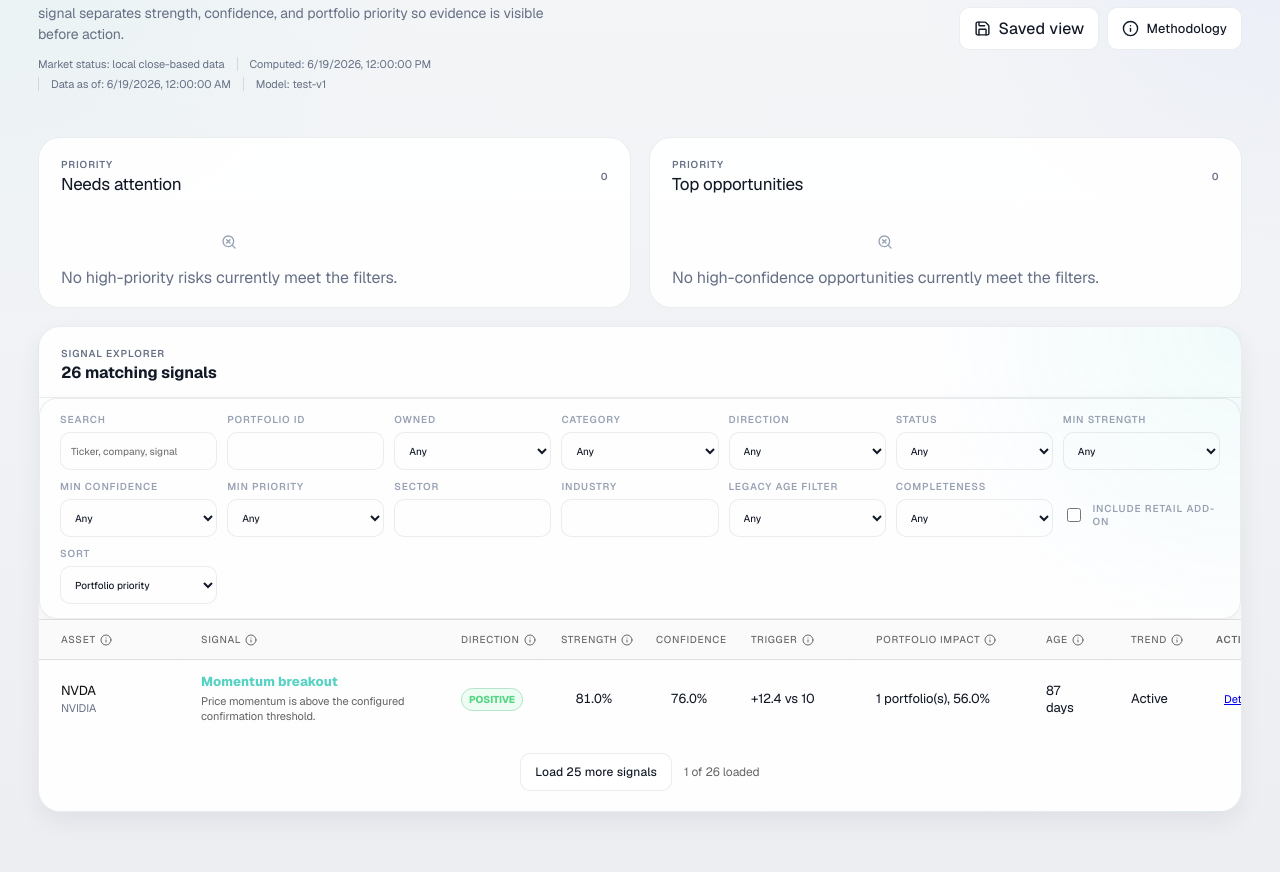
Test: Signals routes › loads the next bounded page only when requested
(page scrolled)
Step 1. Click the button "Load 25 more signals" → click(596, 772), box [520, 753, 672, 791]
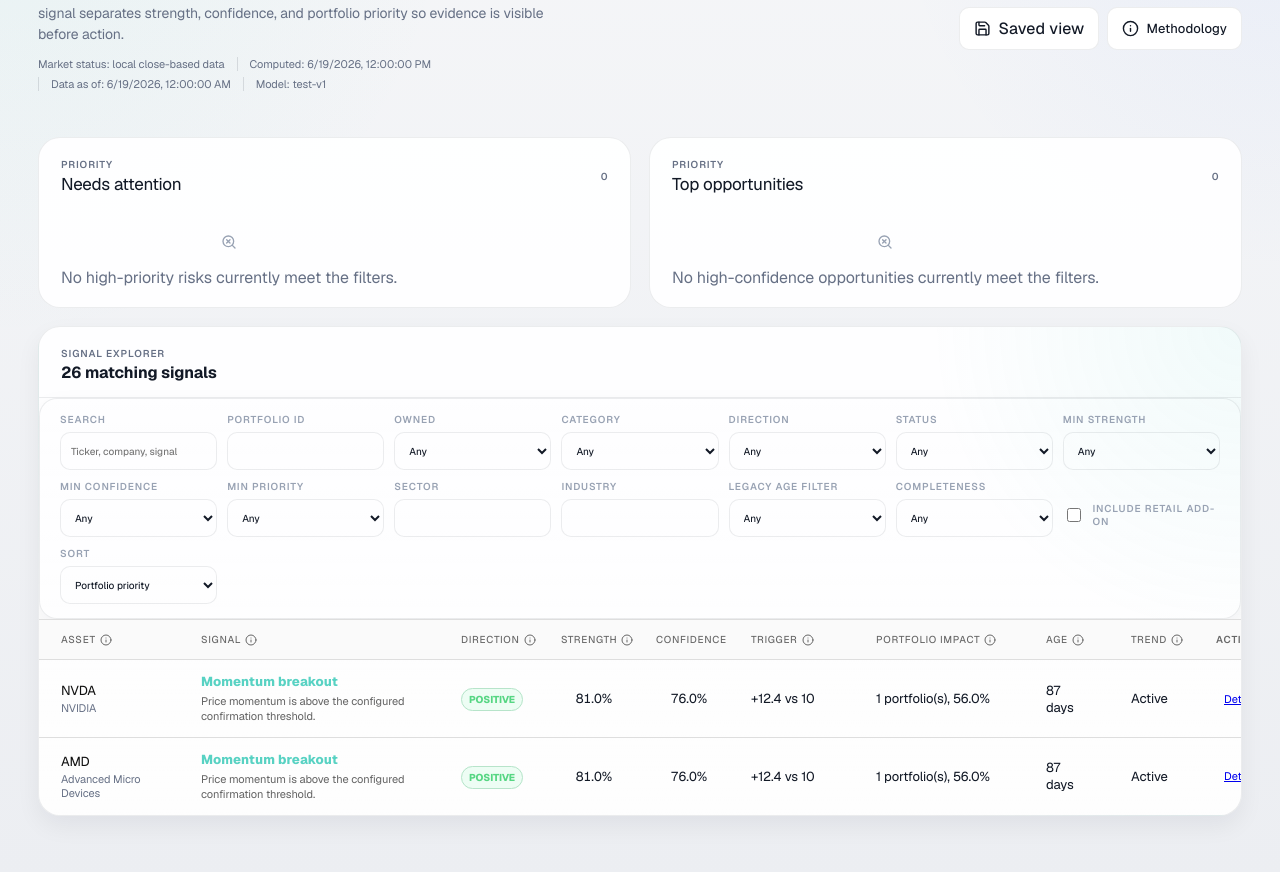
Expected: the text "AMD" is shown, [61, 753, 90, 770]
